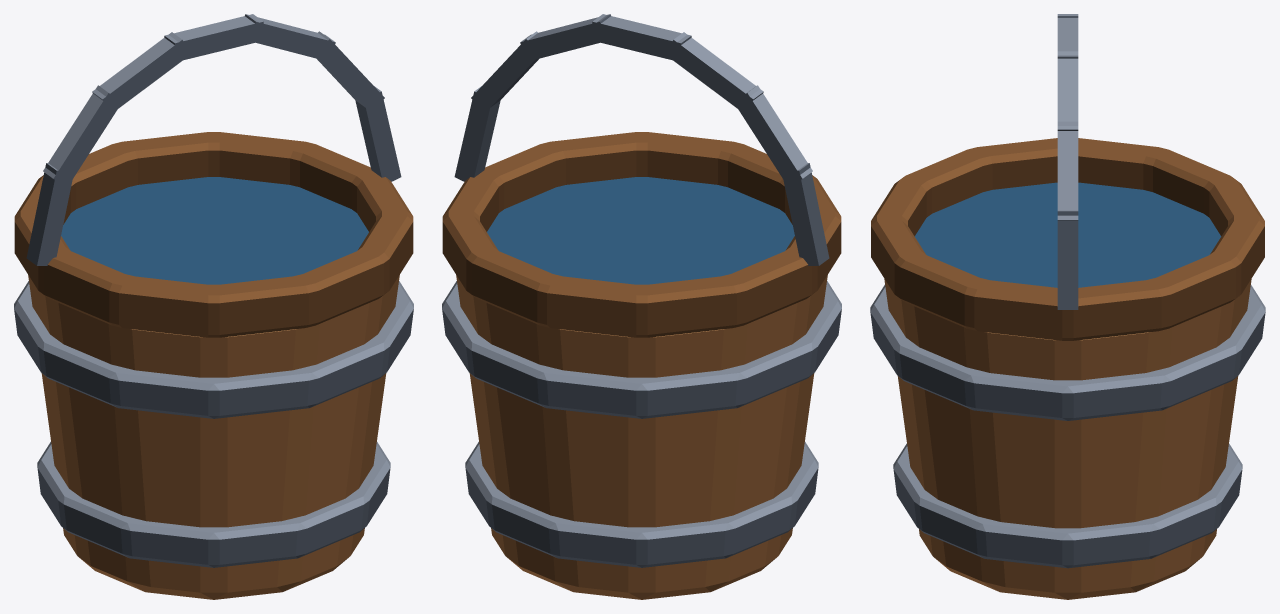
File: balde.fbx
3 renders of one model, left to right at view 1: azimuth 30°, elevation 25°; view 2: azimuth 150°, elevation 25°; view 3: azimuth 270°, elevation 25°, orthographic.
Parts seen in each view (by area): view 1: balde; view 2: balde; view 3: balde.
Part boxes in pixels (box(x1,y1,x2,y2)): balde: box(14, 14, 413, 599); balde: box(442, 14, 841, 599); balde: box(870, 14, 1265, 599).
Size of the model in its own units: 36.02 by 48.64 by 34.23.
